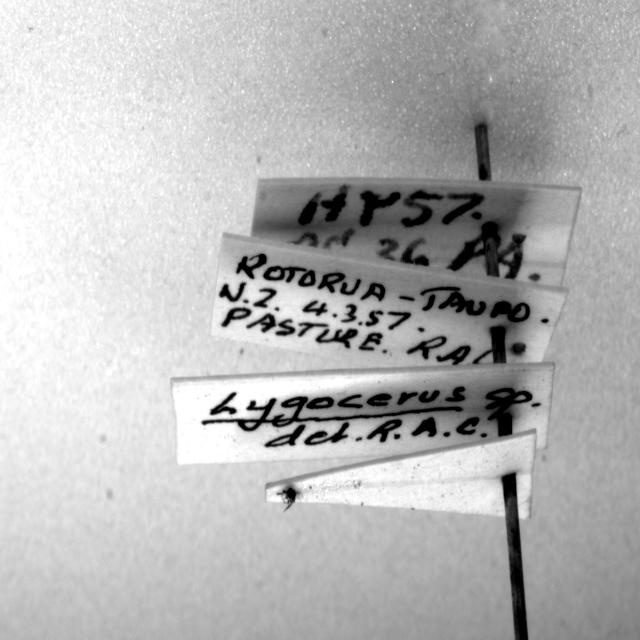hand_label: (211, 234, 566, 368), (171, 364, 554, 463), (251, 178, 581, 287)
